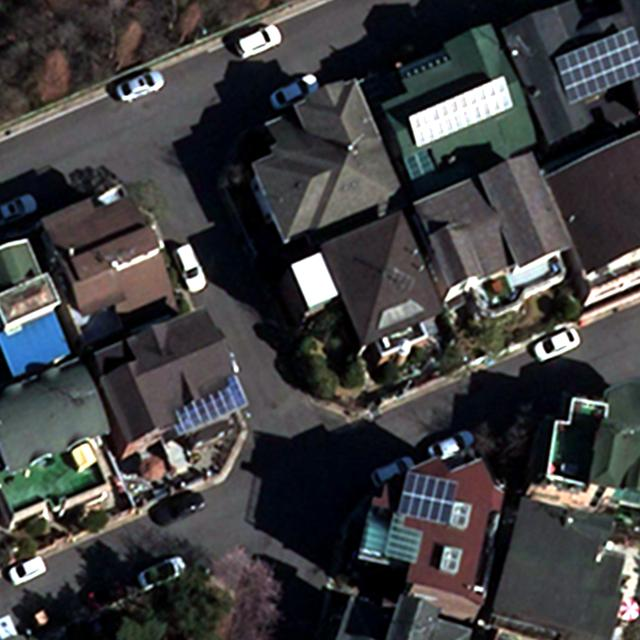panel: (551, 27, 640, 107), (395, 468, 458, 530)
